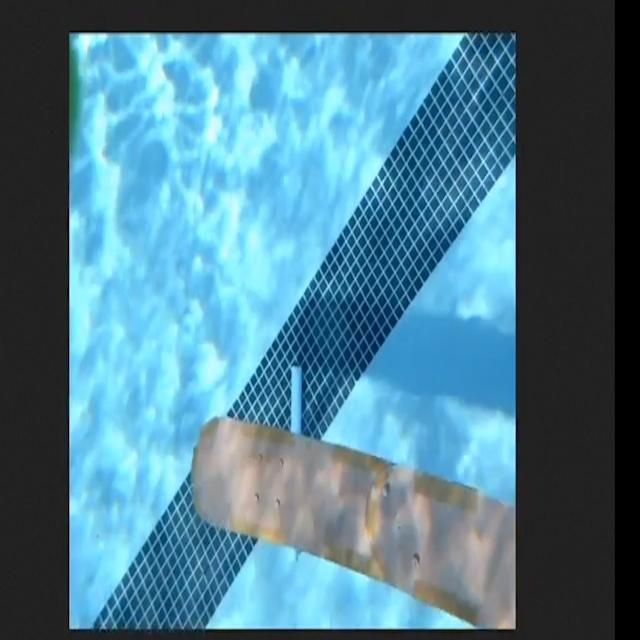Path: (192, 412, 514, 632)
